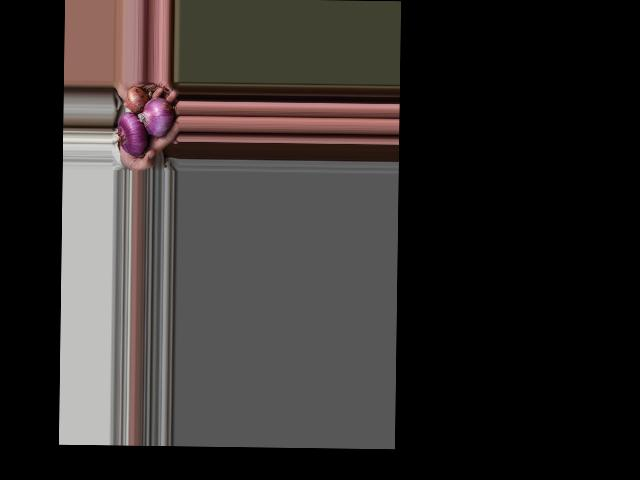onion: (118, 113, 145, 156)
